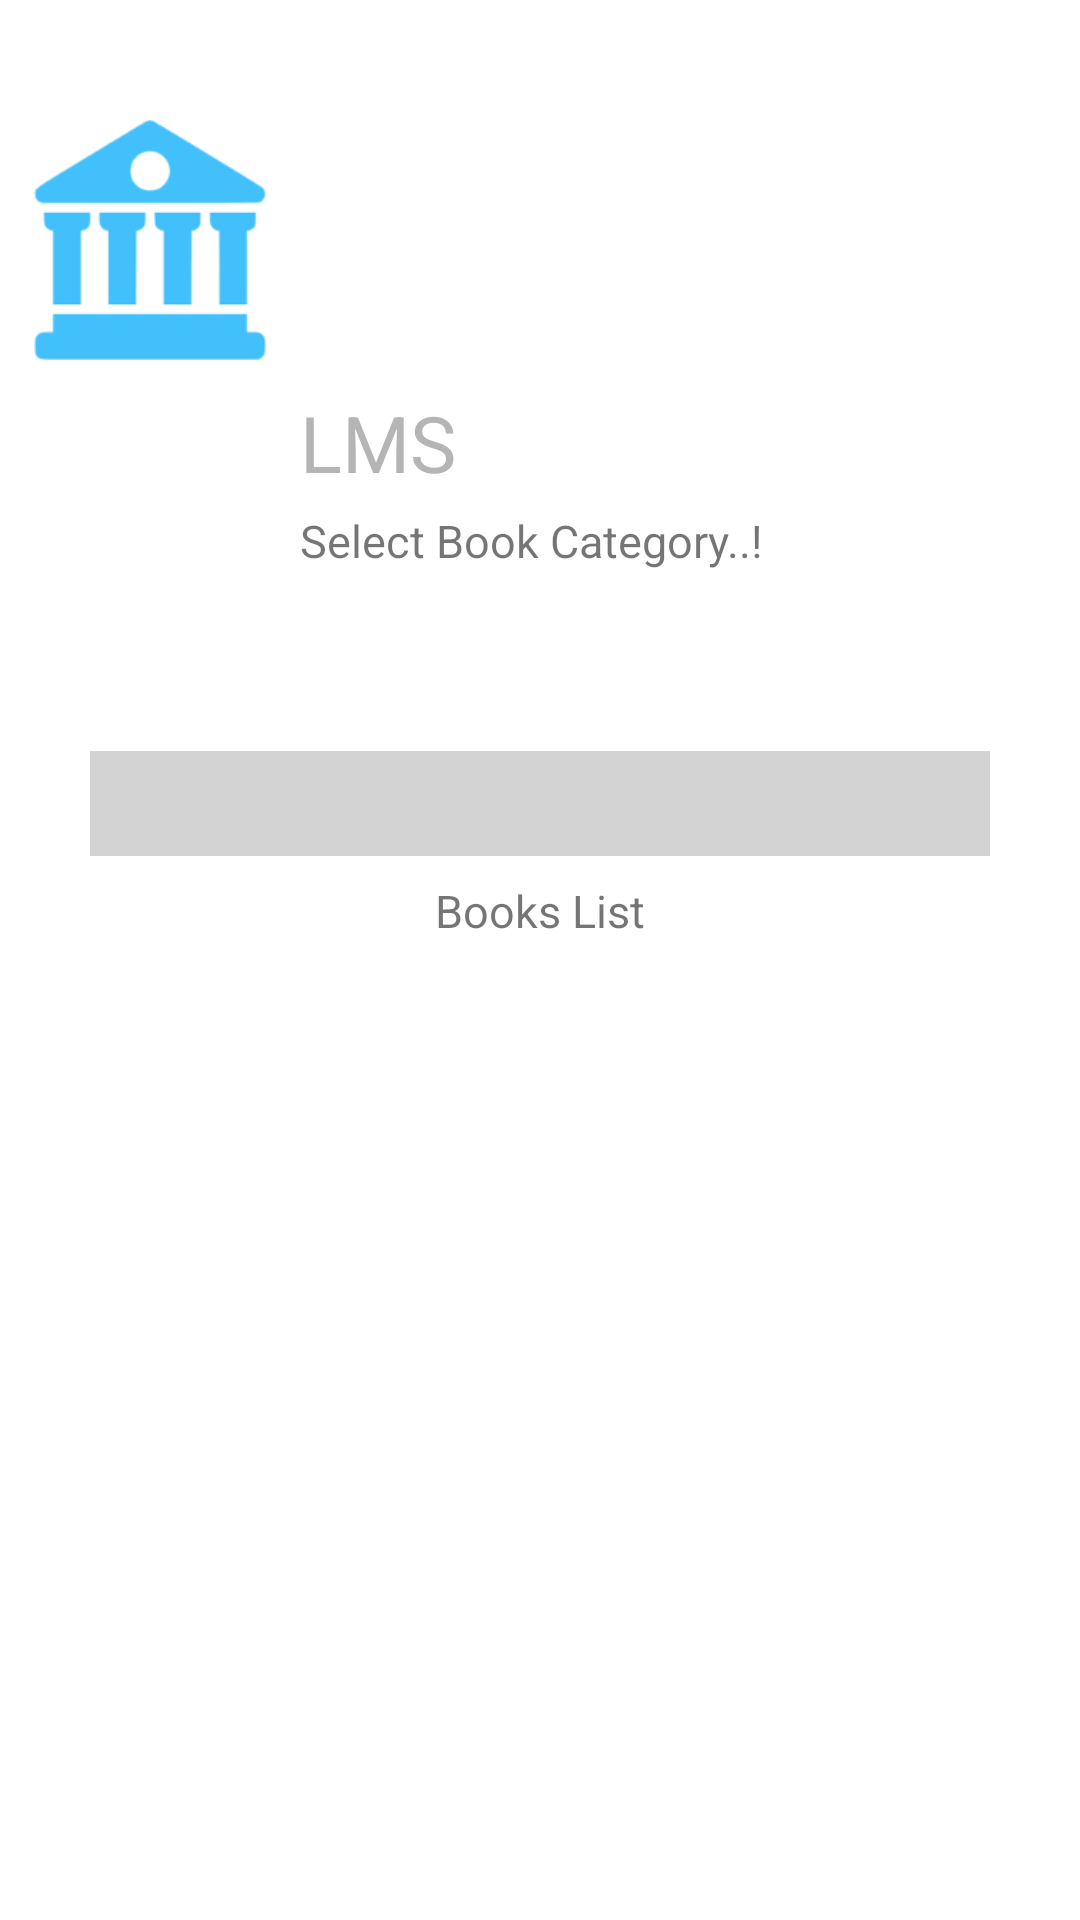

Locate icon controls on the screen. Image size 1080w x 1920h, boxes as [x1,y1,x2,y2].
appicon: [34,120,266,360]
